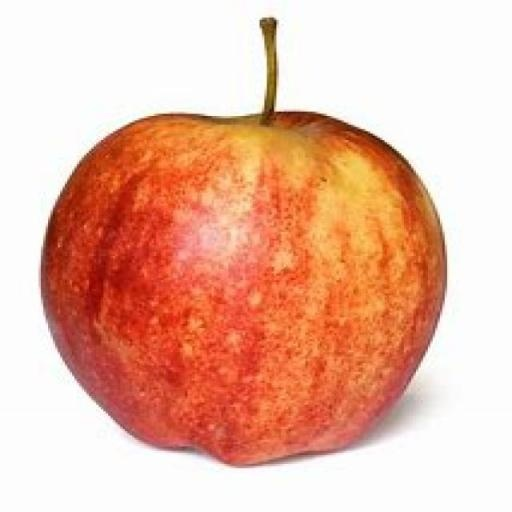fruit: (41, 20, 445, 464)
